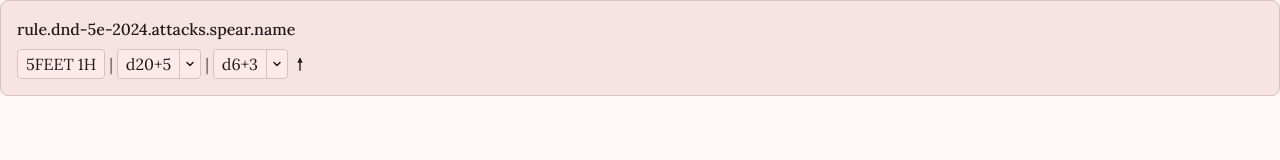
PanelRenderer - versatile weapon (spear) › cycles to "5FEET 2H" when range is tapped once
# Tap to cycle
Click the button "5FEET 1H": (61,64) [17,49,105,79]
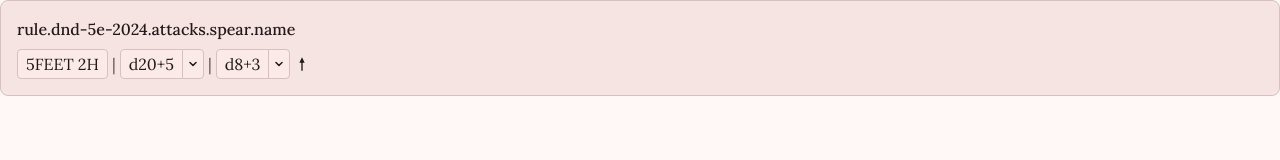
Now the text "5FEET 2H" is shown, box [17,49,108,79]
